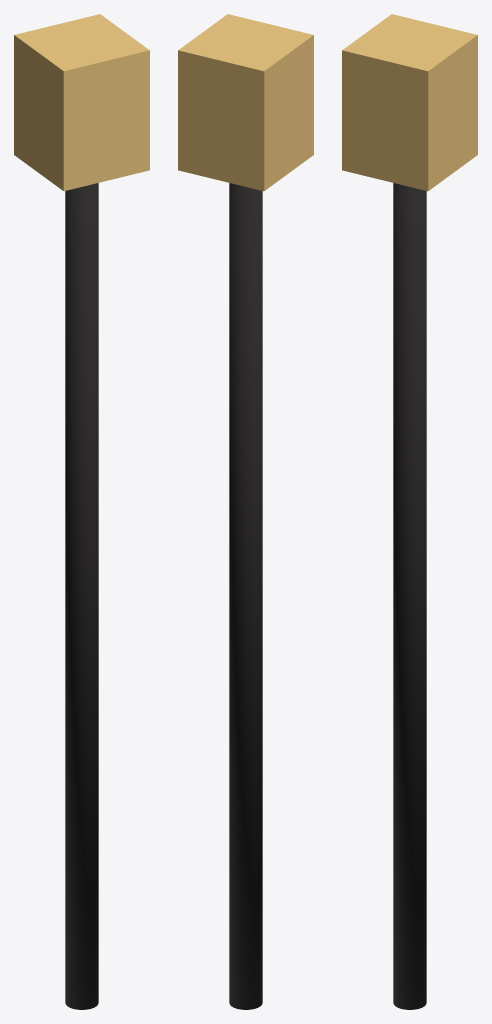
The model's file is SM_Lamp_Post.fbx.
3 renders of one model, left to right at view 1: azimuth 30°, elevation 25°; view 2: azimuth 150°, elevation 25°; view 3: azimuth 330°, elevation 25°, orthographic.
Visible parts, largest first — view 1: Post, Lantern; view 2: Post, Lantern; view 3: Post, Lantern.
Part boxes in pixels (x1,y1,x2,y2): Post: (65, 183, 98, 1009); Lantern: (14, 14, 149, 191); Post: (229, 183, 262, 1009); Lantern: (178, 14, 313, 191); Post: (393, 183, 426, 1009); Lantern: (342, 14, 477, 191).
Bounding box in the file's own units: 0.3 × 3.2 × 0.3.
